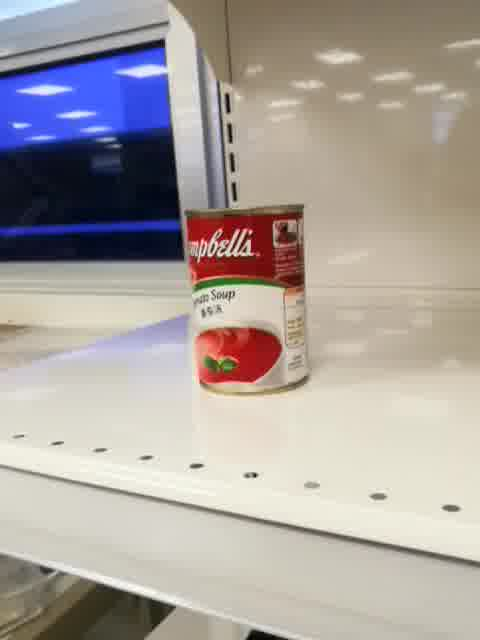tomatosoup: (184, 203, 311, 397)
